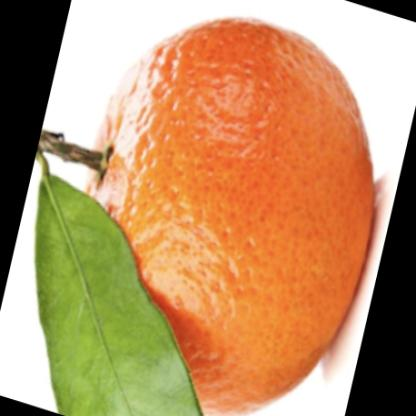fresh: (74, 20, 377, 413)
